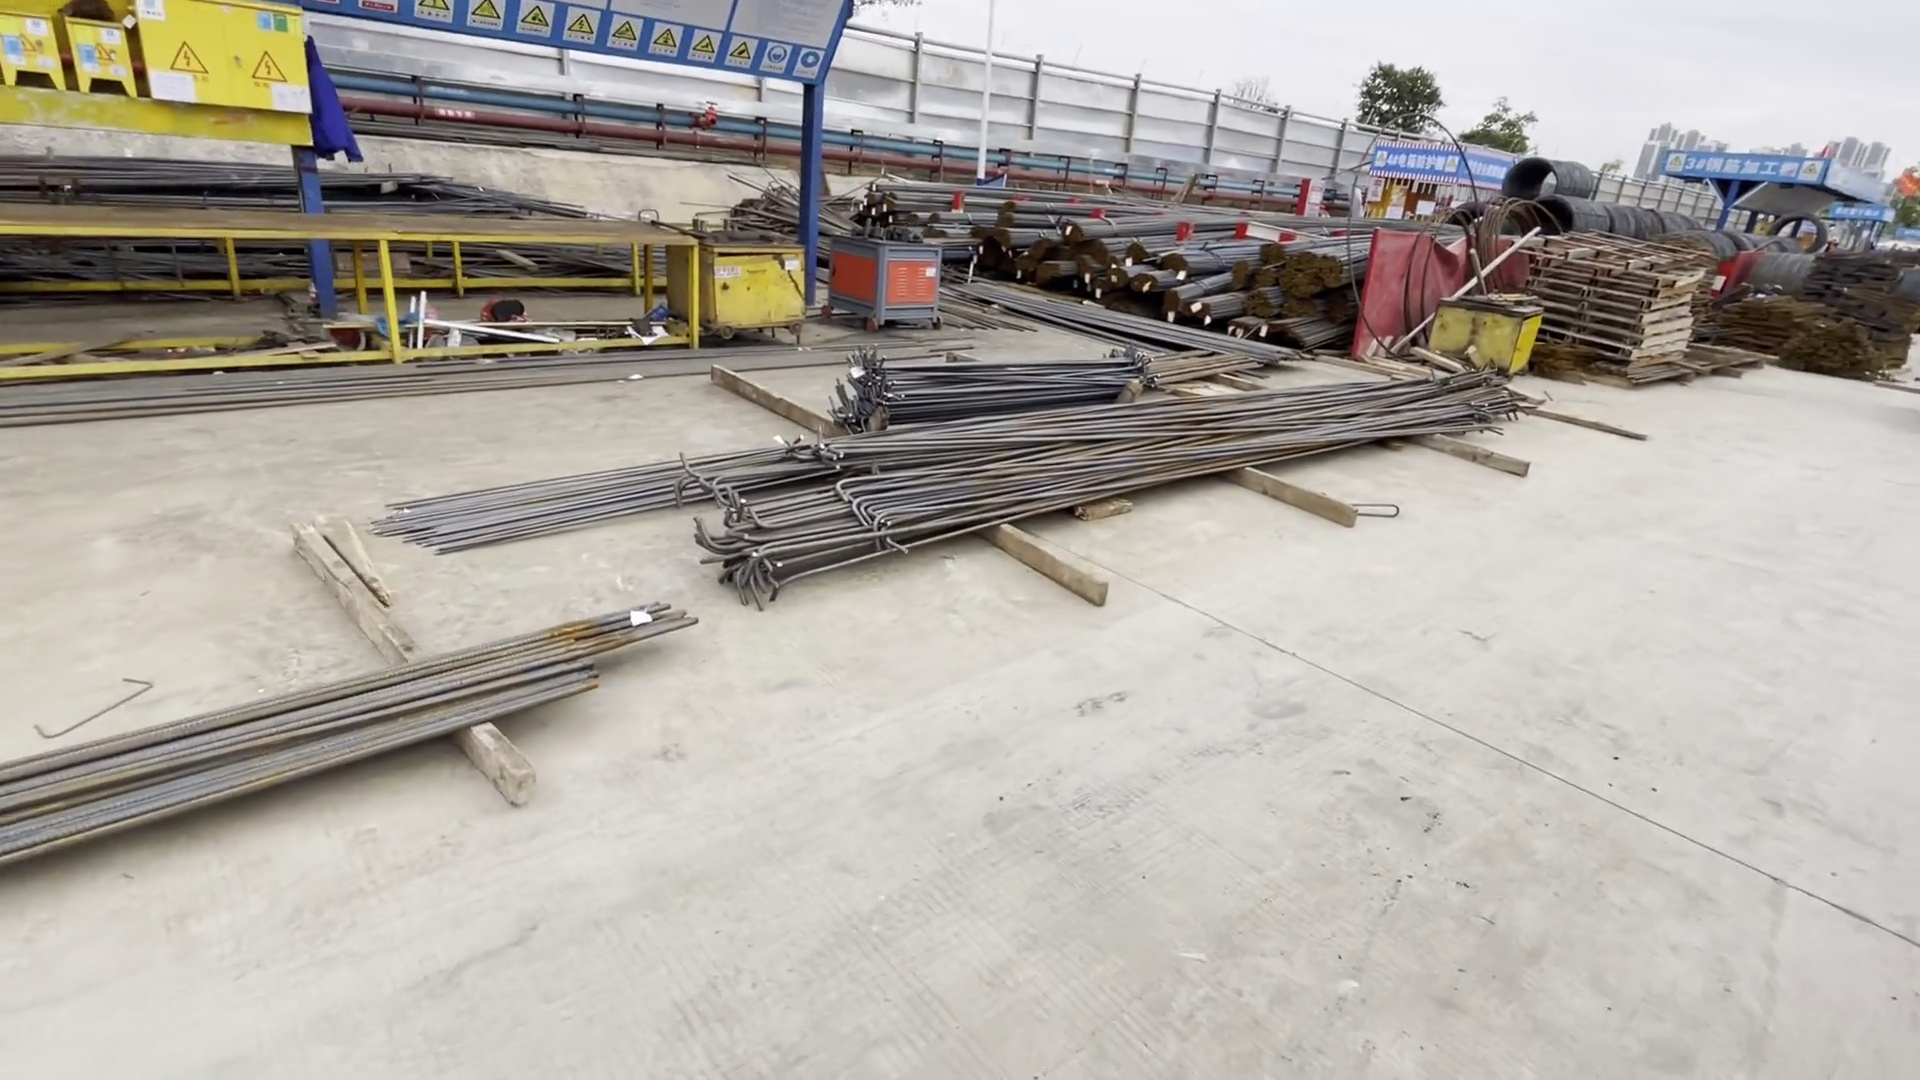ebox: (1, 3, 315, 149)
rebar: (7, 349, 1581, 880), (833, 175, 1378, 357)
slogan: (405, 1, 829, 79)
